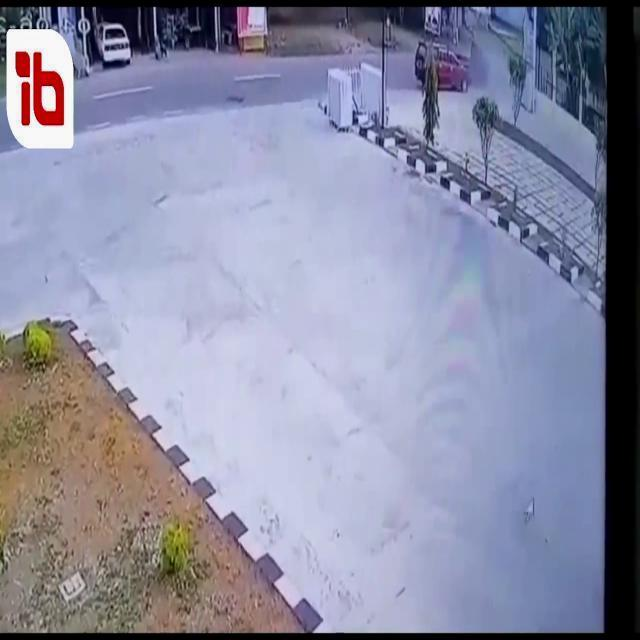accident: (414, 44, 482, 90)
